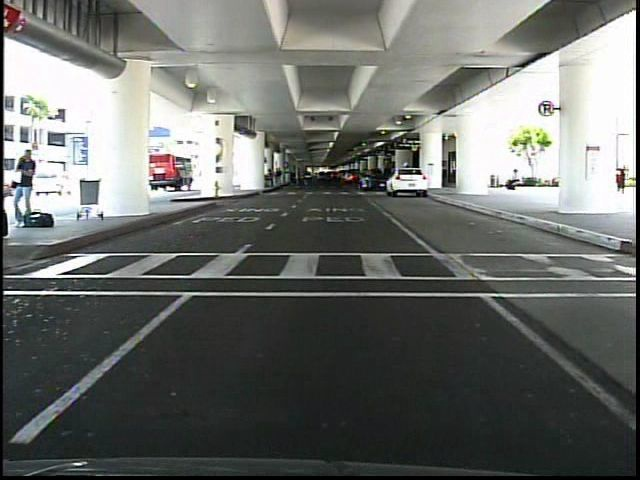person: (13, 145, 42, 230), (608, 160, 631, 199), (500, 164, 524, 196)
